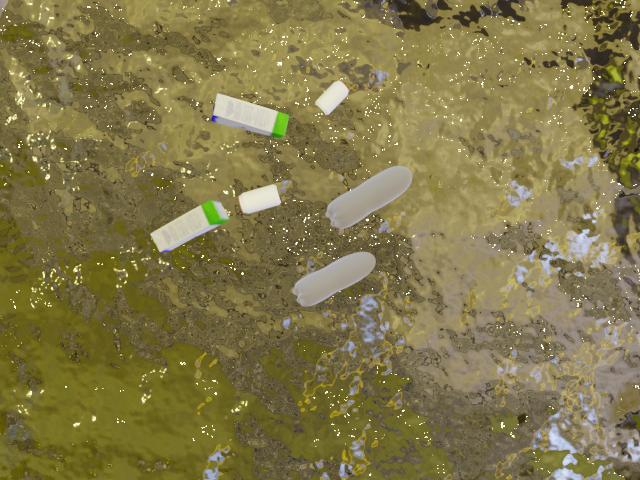Metal: (235, 180, 297, 225), (312, 64, 351, 119)
Plastic: (280, 239, 403, 314), (332, 158, 416, 225)
Trash: (143, 185, 227, 264), (200, 85, 295, 150)
